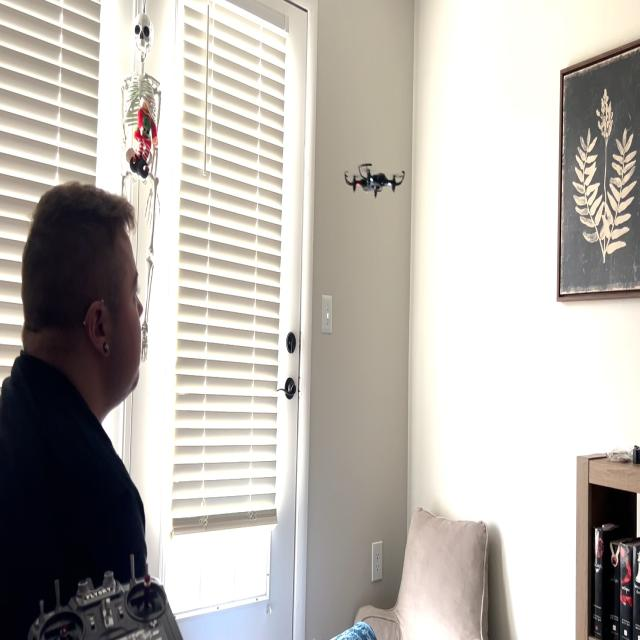drone: (338, 148, 411, 204)
